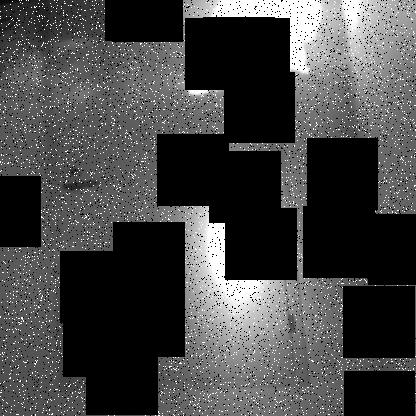Porte: (35, 0, 314, 394)
